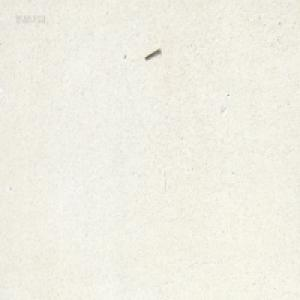Bolt: (144, 47, 160, 59)
